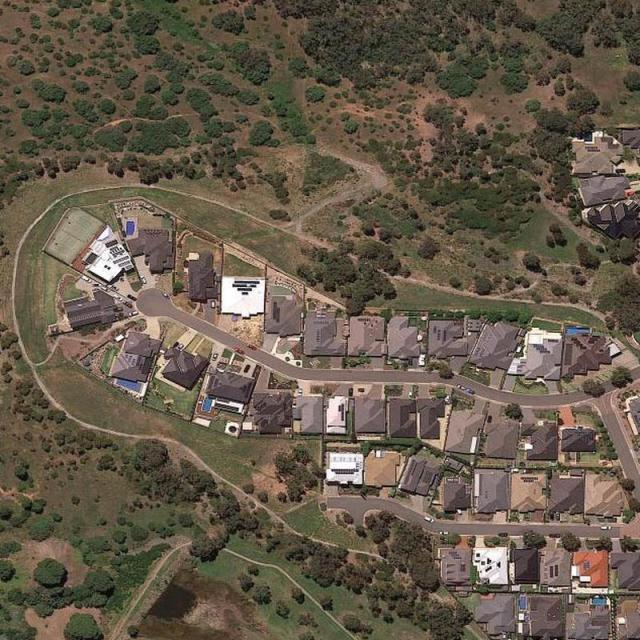vehicle: (112, 292, 122, 302), (126, 294, 138, 302), (422, 514, 434, 522), (234, 346, 245, 354), (346, 386, 353, 398), (246, 342, 256, 350), (127, 310, 138, 317), (465, 387, 476, 394), (138, 275, 146, 284), (98, 285, 110, 291), (162, 291, 170, 300), (455, 382, 464, 390), (81, 276, 91, 283), (210, 352, 218, 360), (122, 300, 131, 307), (244, 365, 251, 374), (598, 525, 610, 530), (291, 398, 297, 408), (498, 531, 508, 537), (549, 534, 560, 539), (445, 393, 451, 402), (210, 298, 215, 308), (176, 344, 183, 351), (614, 168, 626, 172), (438, 531, 450, 535), (555, 511, 560, 520), (298, 388, 303, 396), (486, 414, 491, 422), (409, 390, 413, 399), (550, 513, 554, 522)
